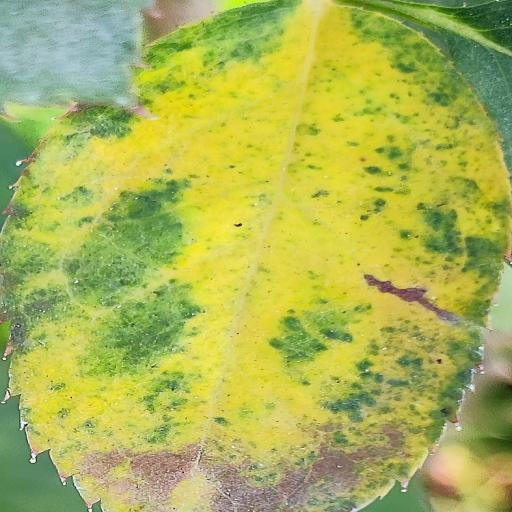red_mite: (3, 0, 509, 512)
